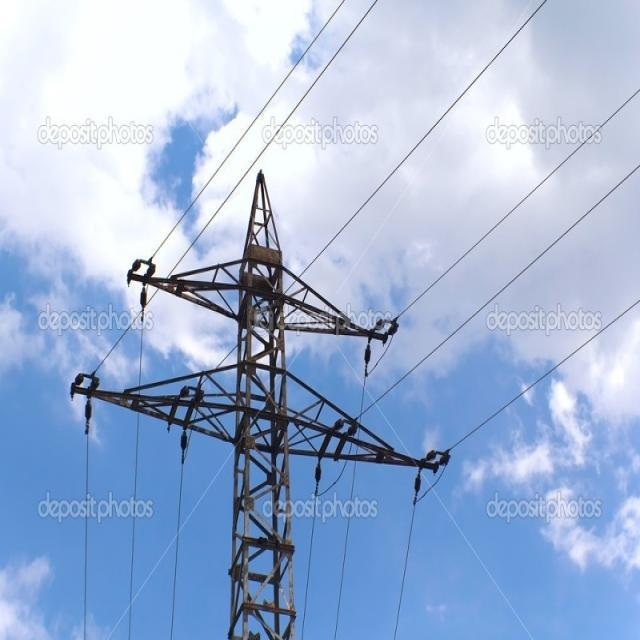non-critical vegetation: (75, 176, 441, 630)
